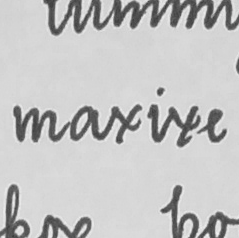a: (67, 104, 103, 143)
e: (204, 105, 230, 145)
i: (146, 85, 166, 144)
m: (11, 103, 61, 146)
x: (167, 102, 203, 148), (107, 102, 144, 146)
